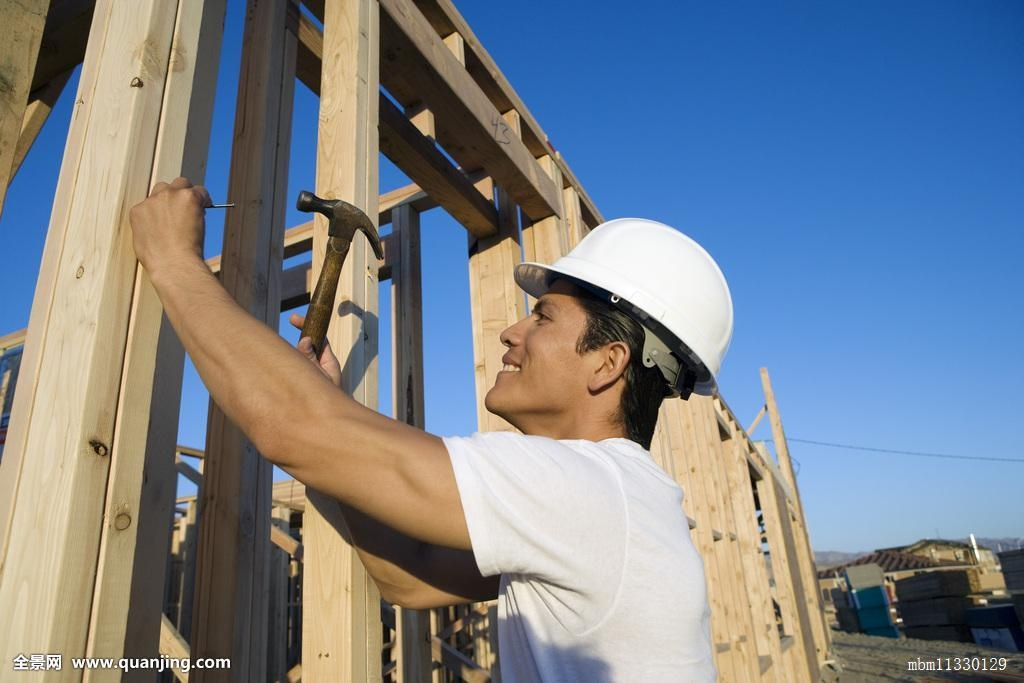white: (482, 211, 737, 448)
